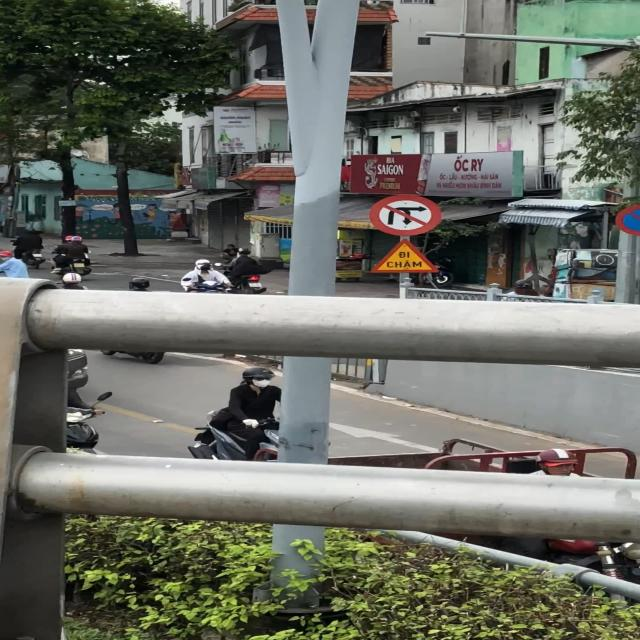Bien bao cam re phai va quay dau: (367, 194, 444, 238)
